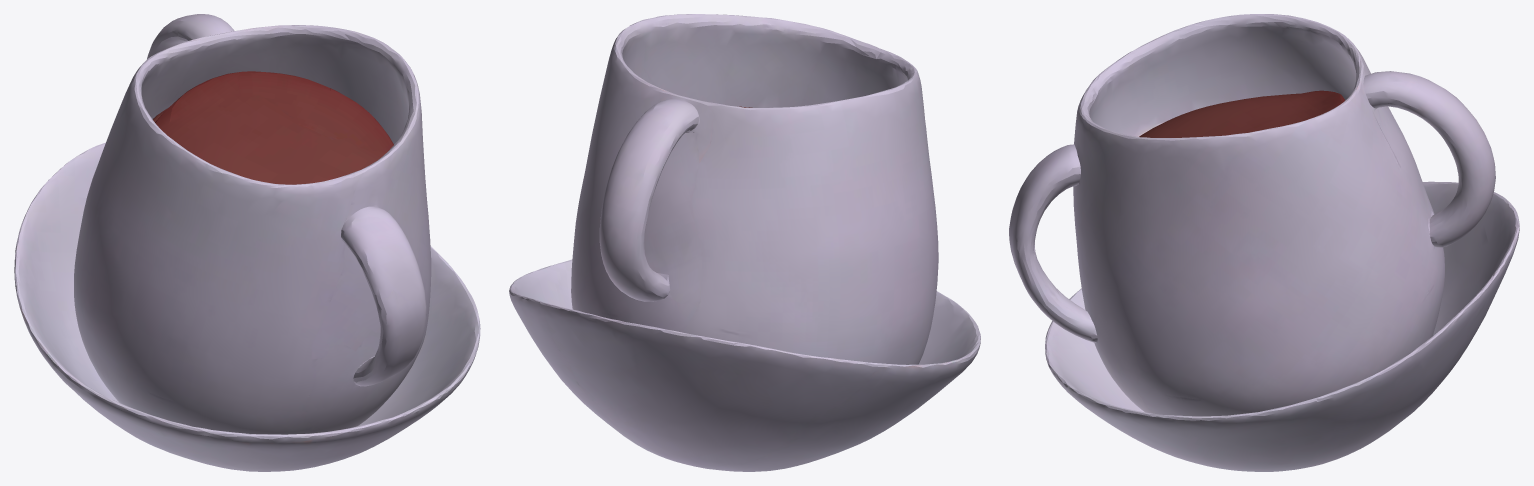
Rendered from coffee.glb.
3 views of the same model, side by side, from view 1: azimuth 30°, elevation 25°; view 2: azimuth 150°, elevation 25°; view 3: azimuth 270°, elevation 25° (orthographic). The views are drawn at different scales.
Parts seen in each view (by area): view 1: model; view 2: model; view 3: model.
Part boxes in pixels (left/top/right/bottom): model: left=14, top=14, right=480, bottom=471; model: left=509, top=14, right=980, bottom=471; model: left=1009, top=14, right=1519, bottom=471.
Bounding box in the file's own units: 0.9104 × 0.8179 × 1.
Materials: 1 (1 with a texture image).
